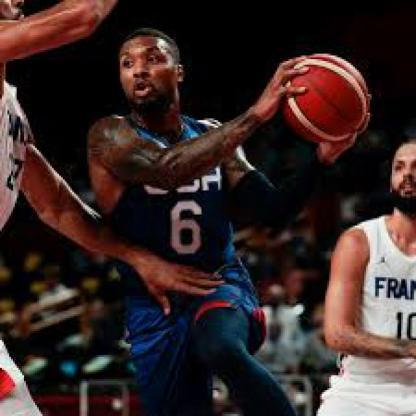basketball: (279, 54, 370, 143)
